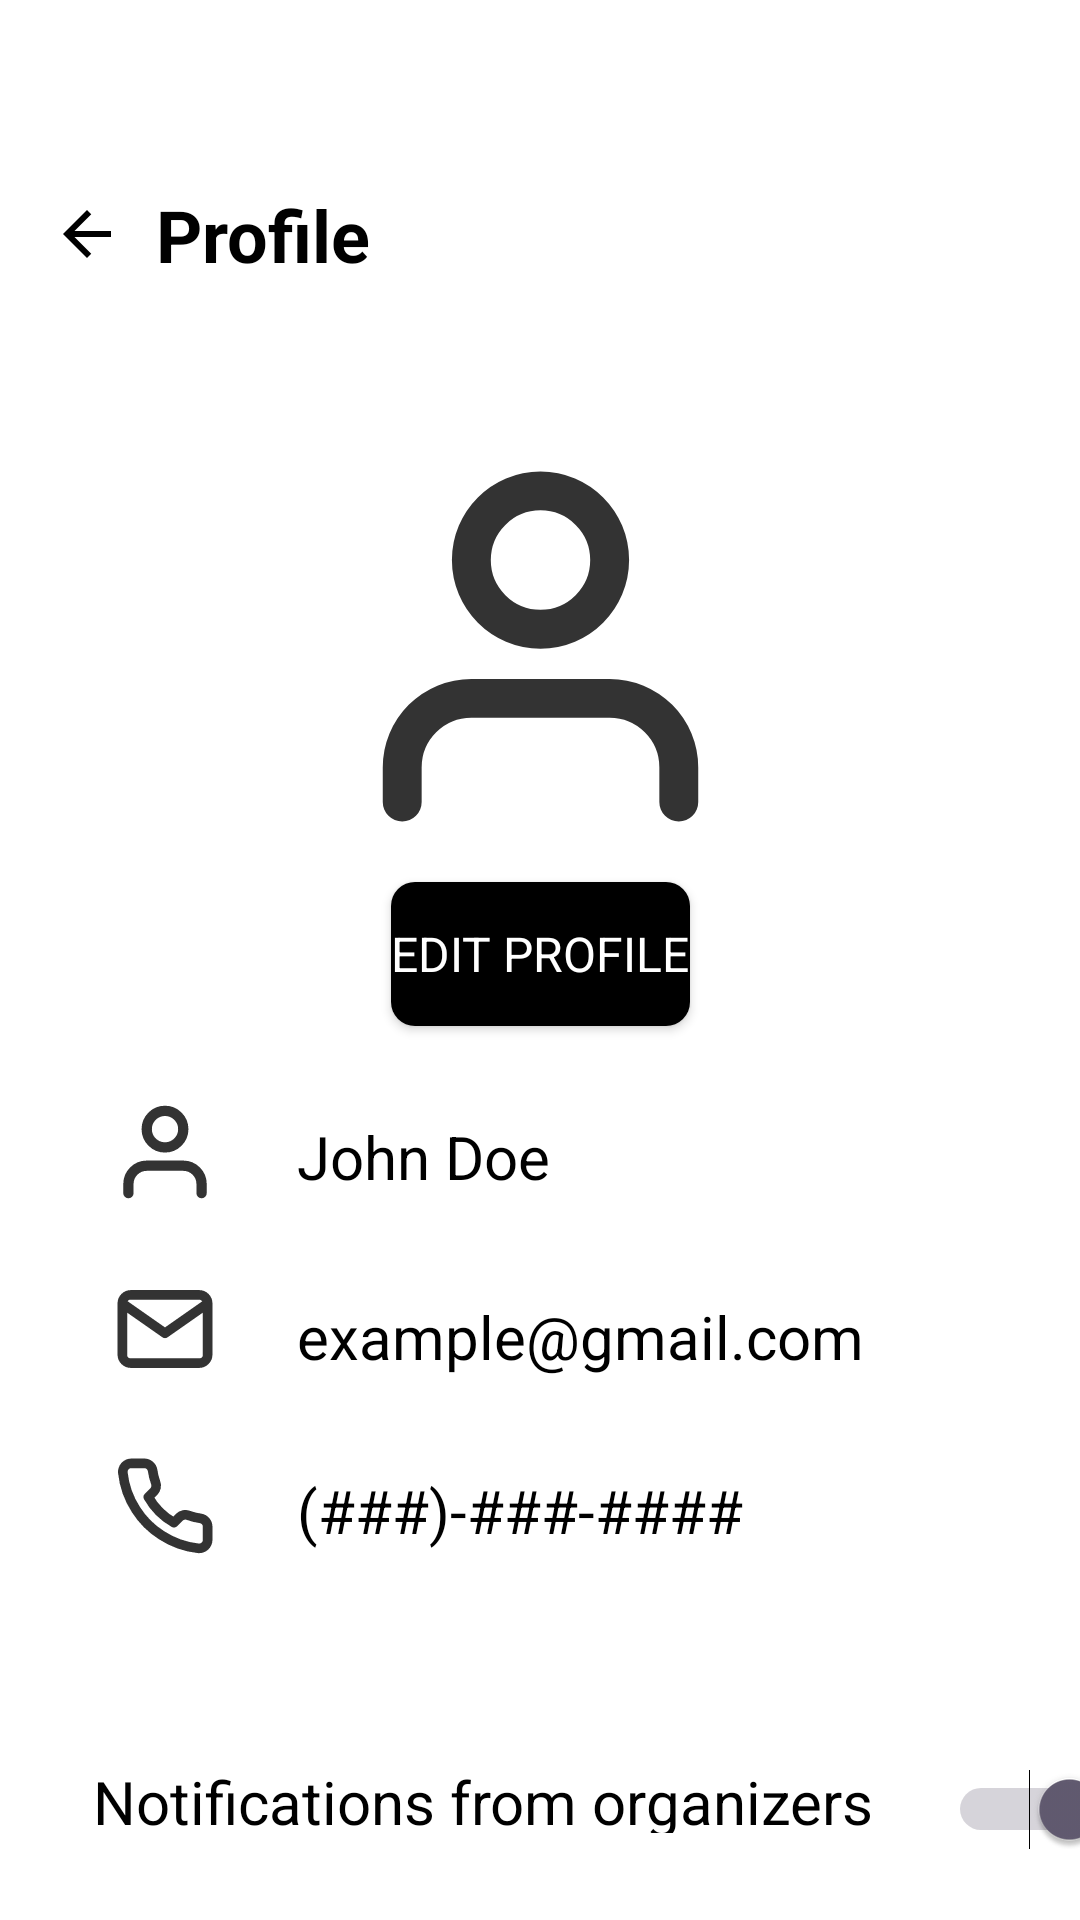

Locate icon controls on the screen. Image size 1080×1920, boxes as (x1, y1, x2, y2).
Back: (63, 210, 111, 258)
email: (117, 1290, 213, 1368)
phone: (118, 1458, 213, 1554)
user: (382, 471, 699, 822), (123, 1105, 207, 1199)
